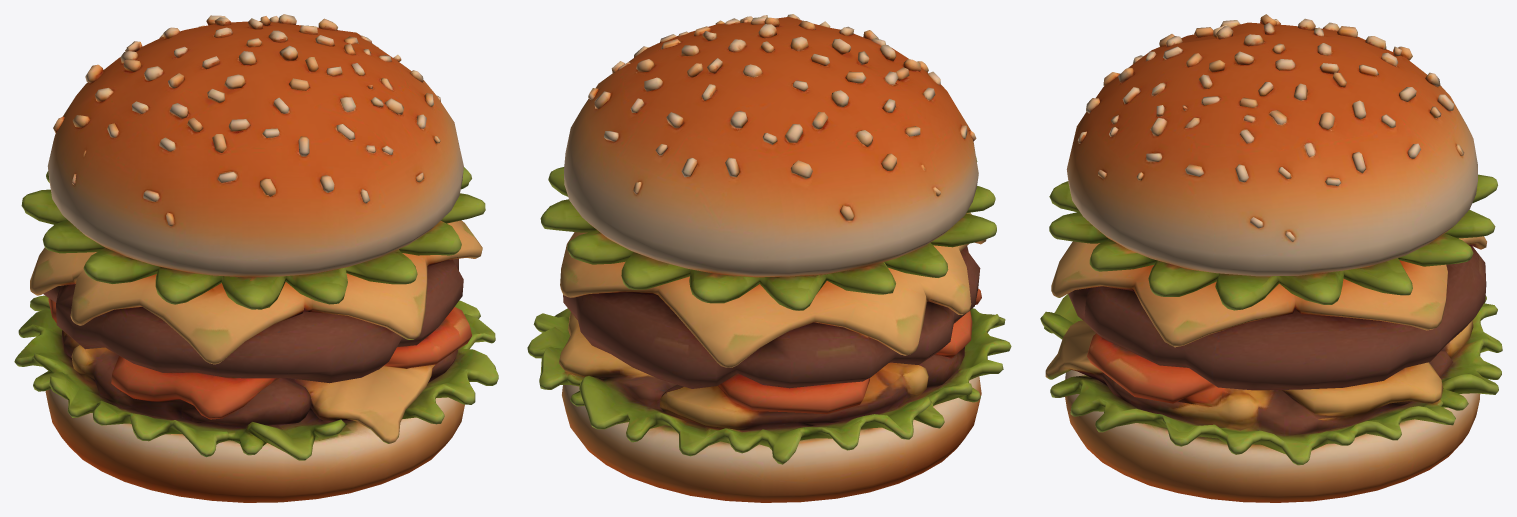
File: Stylish Hamburger-climax.glb
The picture shows the model from 3 angles, left to right: view 1: azimuth 30°, elevation 25°; view 2: azimuth 150°, elevation 25°; view 3: azimuth 270°, elevation 25°; orthographic projection.
Parts seen in each view (by area): view 1: pb_node; view 2: pb_node; view 3: pb_node.
Part boxes in pixels (left/top/right/bottom): pb_node: left=14, top=14, right=498, bottom=502; pb_node: left=527, top=14, right=1011, bottom=502; pb_node: left=1040, top=14, right=1502, bottom=502.
Size of the model in its own units: 0.998 by 0.8848 by 0.9863.
Materials: 1 (1 with a texture image).
